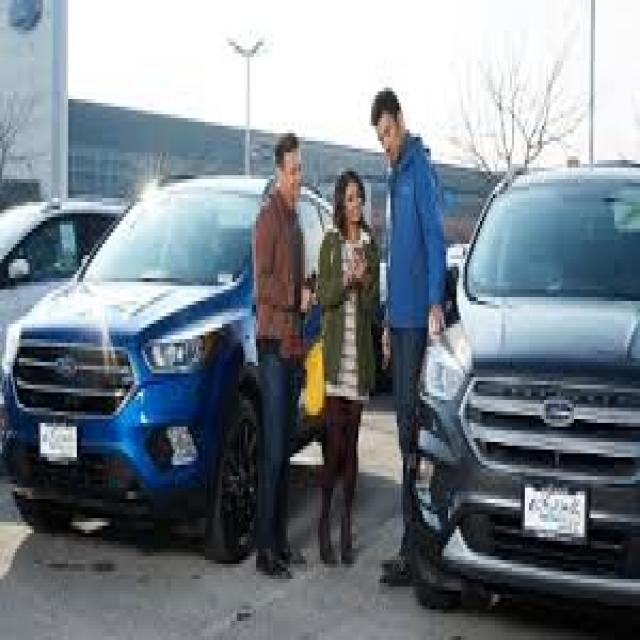car: (10, 162, 248, 551), (439, 173, 636, 594)
person: (249, 132, 311, 571), (316, 170, 382, 562), (372, 92, 424, 573)
